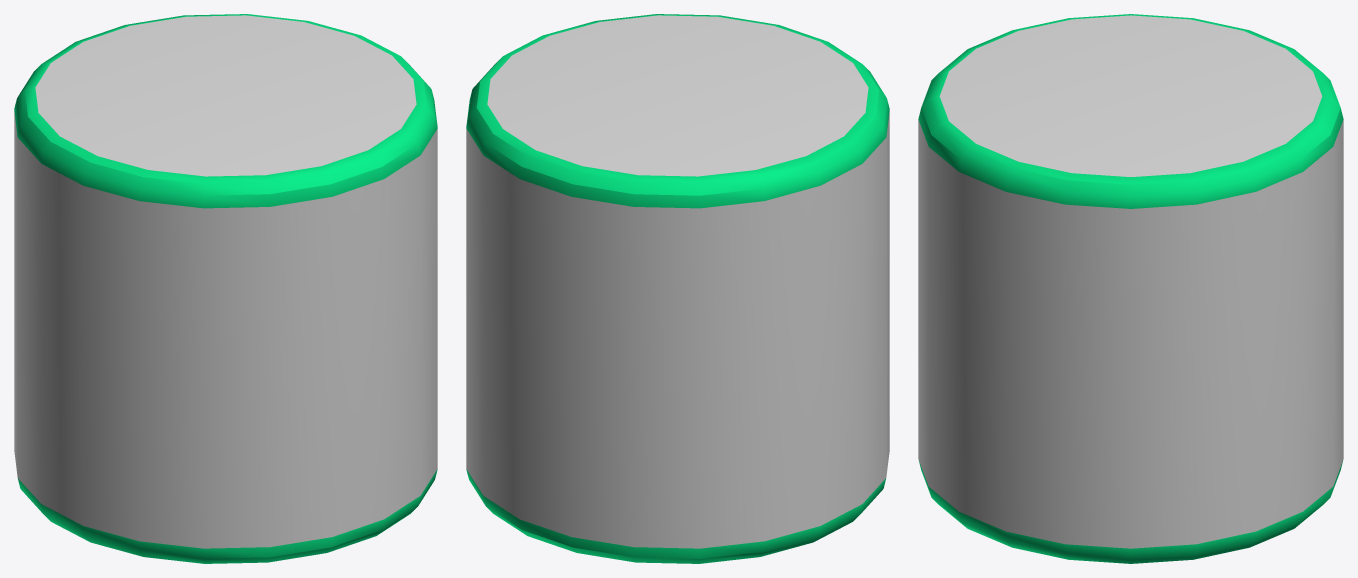
File: Ultraleap_Cylinder_Interactable.fbx
The picture shows the model from 3 angles, left to right: view 1: azimuth 30°, elevation 25°; view 2: azimuth 150°, elevation 25°; view 3: azimuth 270°, elevation 25°; orthographic projection.
Parts seen in each view (by area): view 1: UHI_Cylinder_Interactable; view 2: UHI_Cylinder_Interactable; view 3: UHI_Cylinder_Interactable.
Part boxes in pixels (<box>): UHI_Cylinder_Interactable: <box>14,14,437,563</box>; UHI_Cylinder_Interactable: <box>466,14,889,563</box>; UHI_Cylinder_Interactable: <box>918,14,1343,563</box>.
Bounding box in the file's own units: 1 × 1 × 1.
